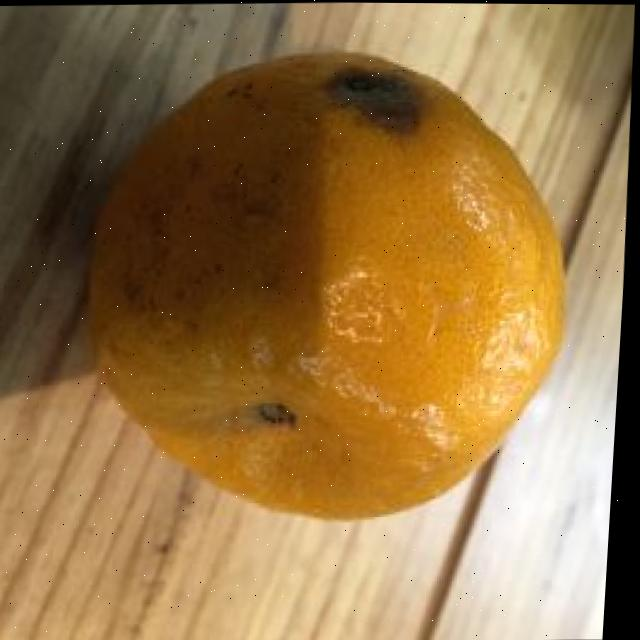Wet: (68, 51, 594, 540)
